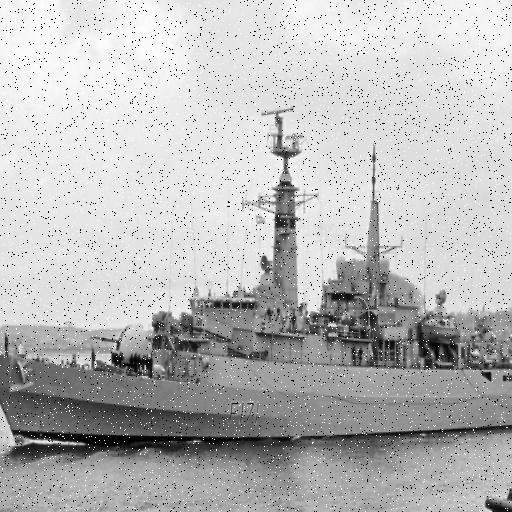Fragata: (1, 100, 512, 458)
